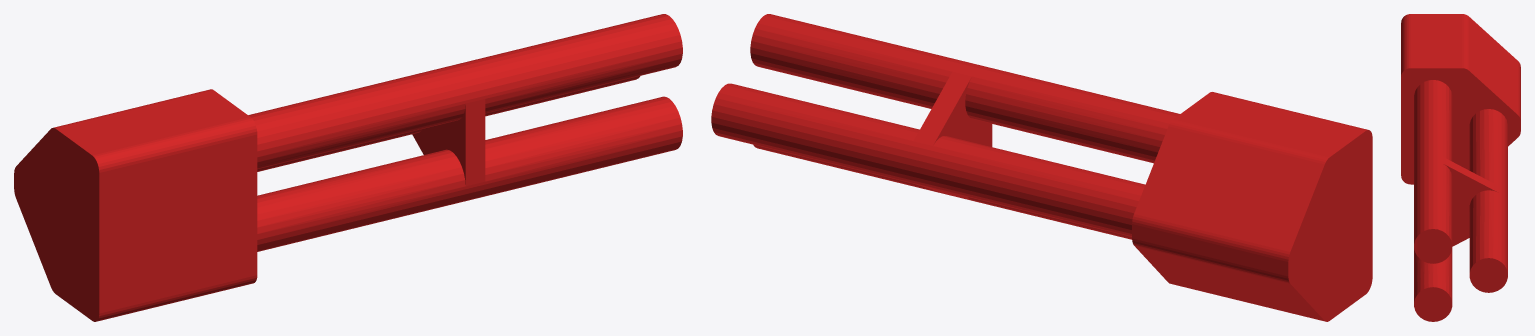
File: fmb_peg_31.obj
3 views of the same model, side by side, from view 1: azimuth 30°, elevation 25°; view 2: azimuth 150°, elevation 25°; view 3: azimuth 270°, elevation 25° (orthographic). The views are drawn at different scales.
Size of the model in its own units: 0.15 by 0.04 by 0.0373.
1 material, 1 textured.
